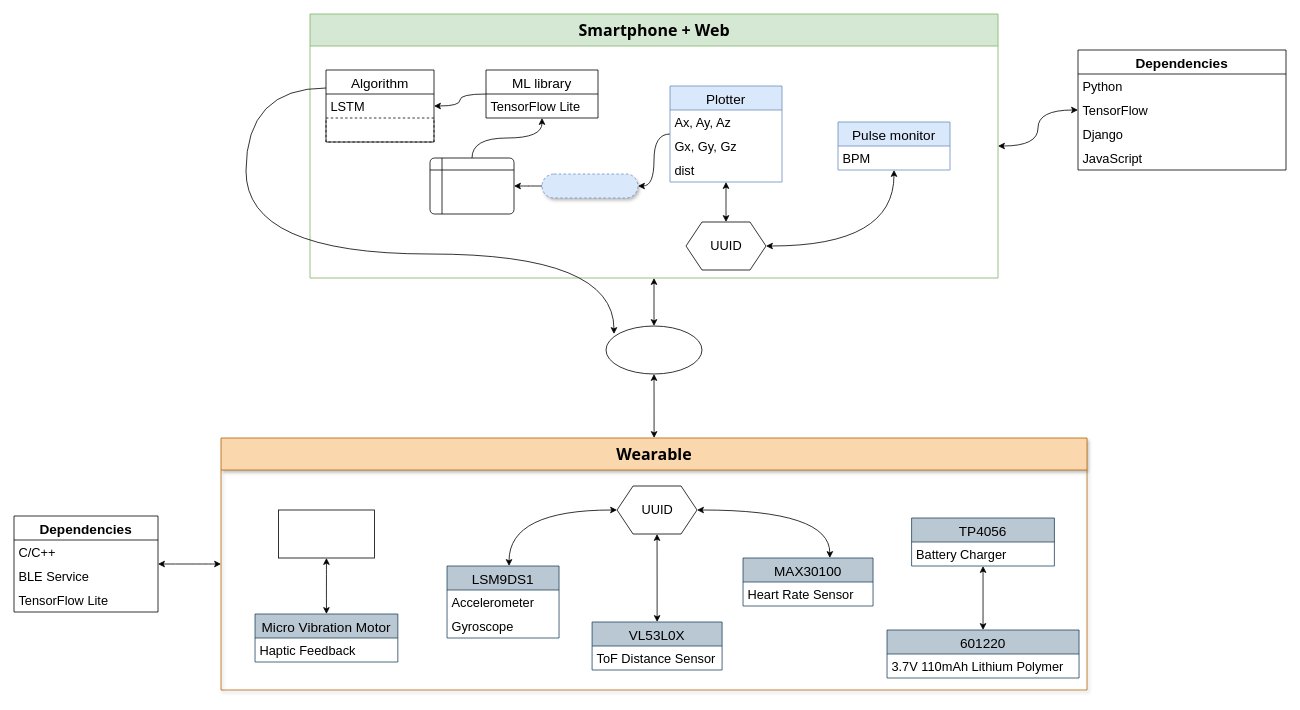
This 1300x710 diagram has some shape labels left out. Here are the shapes that lost their labels. From the top down, the centre of each, then its label:
At point 379,129: "SVM".
At point 471,185: "Raw Data".
At point 590,187: "Train button".
At point 653,349: "Bluetooth".
At point 326,533: "Trained Model".
